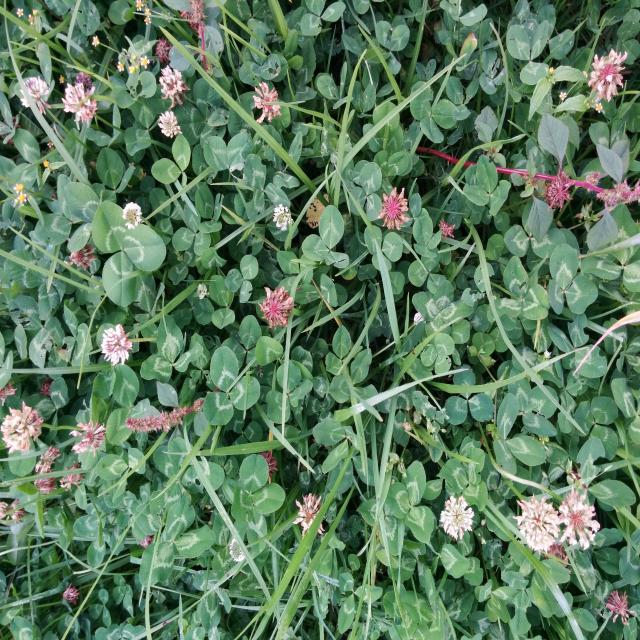Four Leaf Clover: (413, 280, 473, 339)
